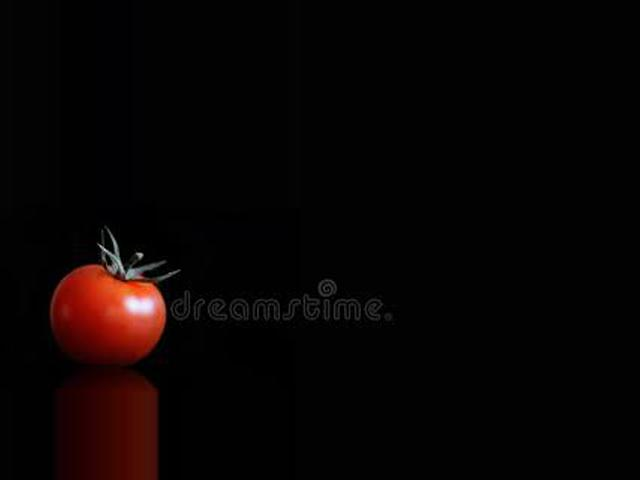tomato: (50, 264, 166, 364)
